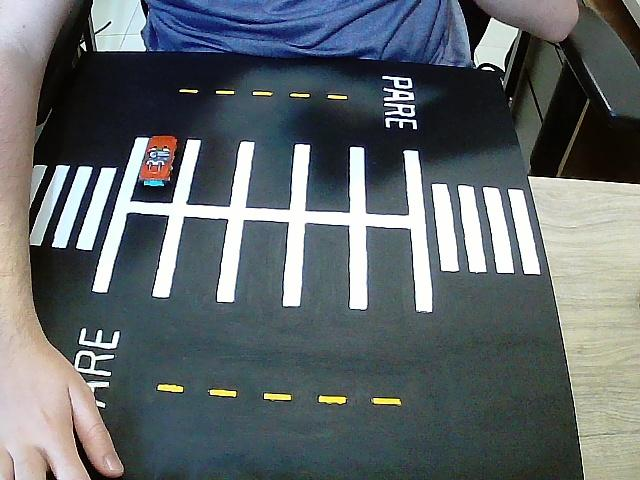Carro: (141, 137, 175, 186)
